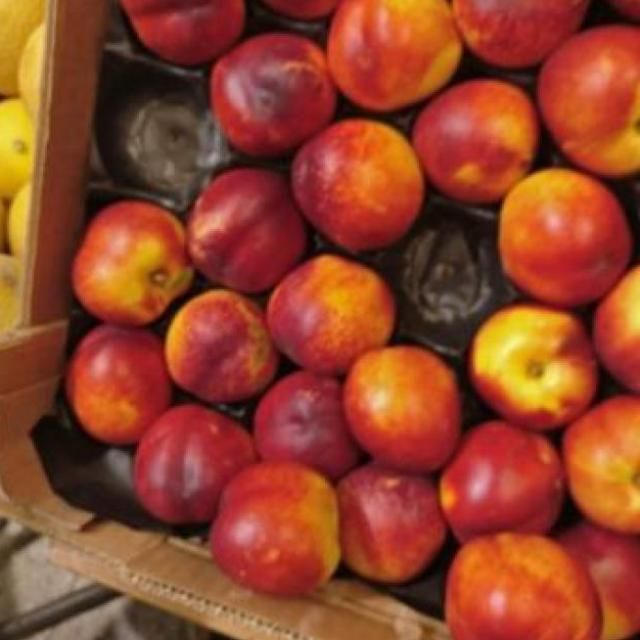Nectarine: (487, 166, 630, 303), (216, 461, 338, 602), (464, 307, 605, 427), (59, 201, 189, 331), (289, 126, 426, 248), (344, 336, 460, 474), (261, 258, 395, 369)
